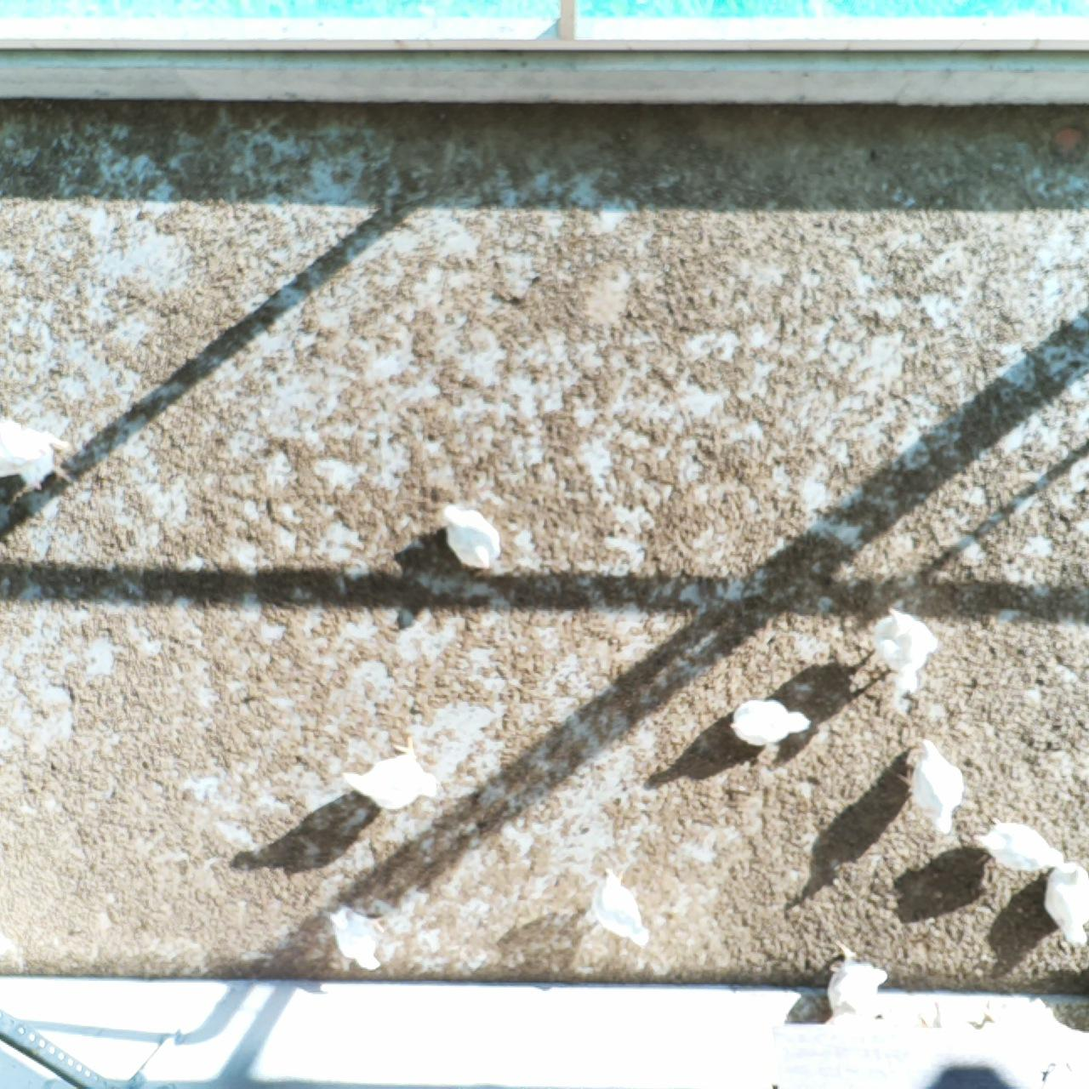chicken: (336, 732, 447, 811), (890, 734, 968, 838), (813, 934, 892, 1027), (870, 602, 942, 700), (966, 811, 1070, 877), (0, 413, 78, 499), (590, 863, 654, 951), (439, 501, 505, 576), (325, 901, 390, 974), (725, 695, 816, 747), (1040, 858, 1089, 953)
